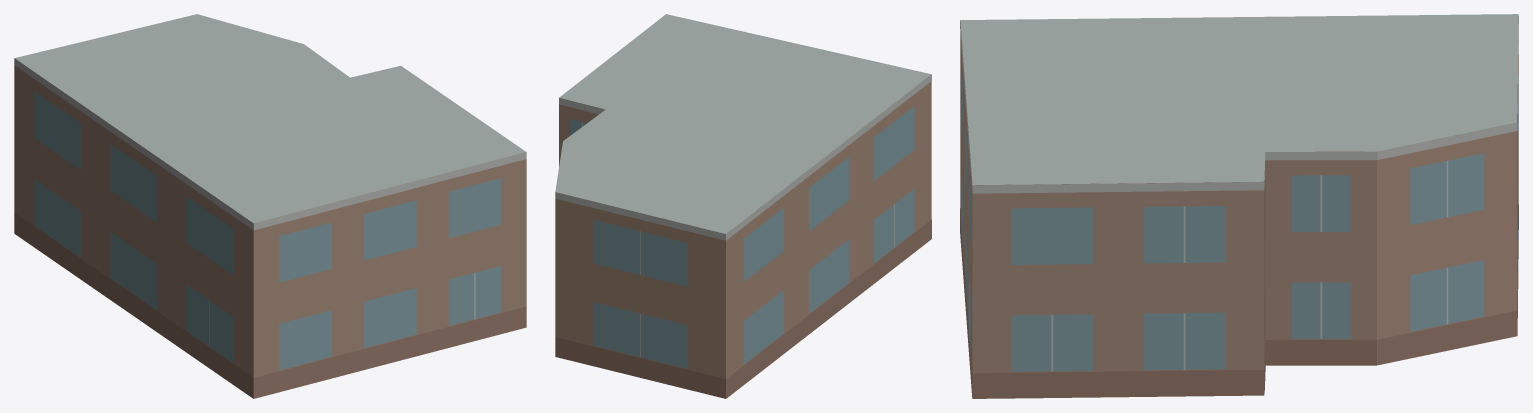
The model's file is survey-upis-32733190.glb.
3 views of the same model, side by side, from view 1: azimuth 30°, elevation 25°; view 2: azimuth 150°, elevation 25°; view 3: azimuth 270°, elevation 25° (orthographic). The views are drawn at different scales.
Parts seen in each view (by area): view 1: survey-upis-32733190.tmp; view 2: survey-upis-32733190.tmp; view 3: survey-upis-32733190.tmp.
Part boxes in pixels (left/top/right/bottom): survey-upis-32733190.tmp: left=14, top=14, right=526, bottom=398; survey-upis-32733190.tmp: left=555, top=14, right=931, bottom=398; survey-upis-32733190.tmp: left=960, top=14, right=1518, bottom=398.
Size of the model in its own units: 10.49 by 6.1 by 14.45.
